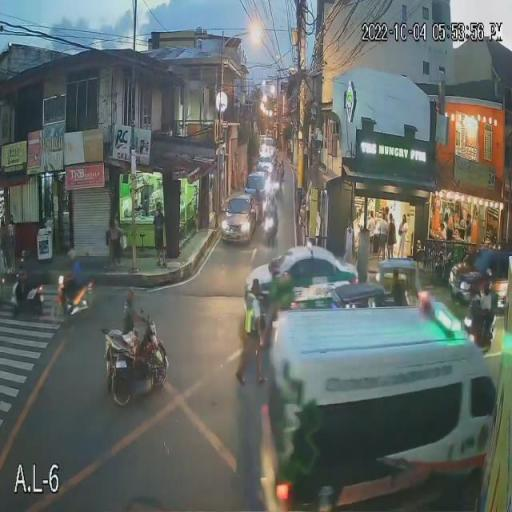helmet: (121, 284, 138, 309), (483, 280, 492, 296), (67, 247, 78, 260)
motorcycle: (99, 324, 169, 387), (53, 276, 94, 318), (463, 304, 496, 354)
rider: (121, 303, 141, 372), (68, 261, 84, 314), (480, 292, 494, 341)
